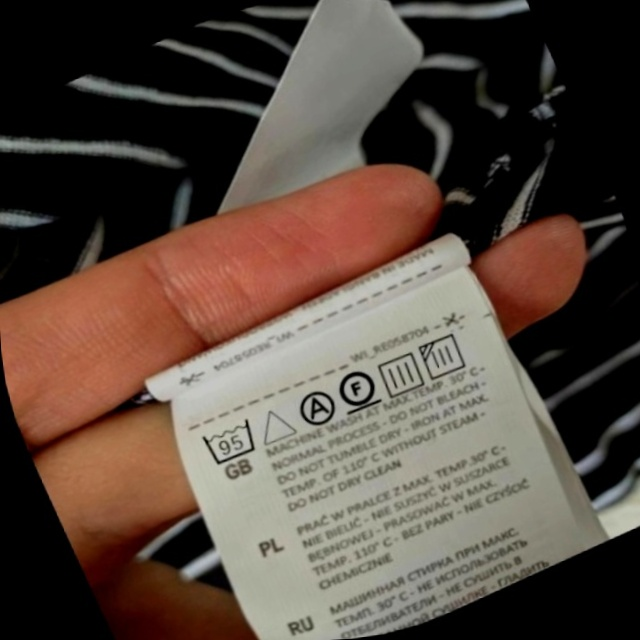95C: (194, 409, 268, 474)
bleach: (248, 395, 302, 453)
drip_dry: (369, 343, 432, 405)
drip_dry_in_shade: (412, 324, 477, 388)
dry_clean: (288, 381, 344, 435)
dry_clean_petrol_only: (328, 357, 388, 421)
